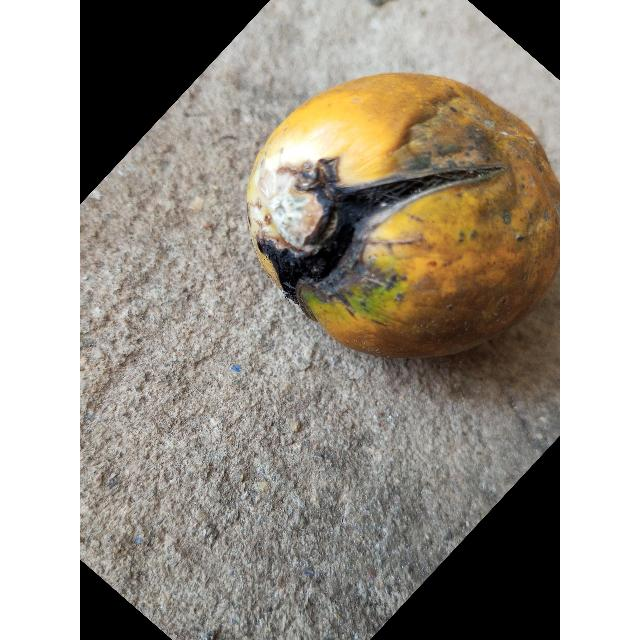damaged: (247, 74, 560, 357)
